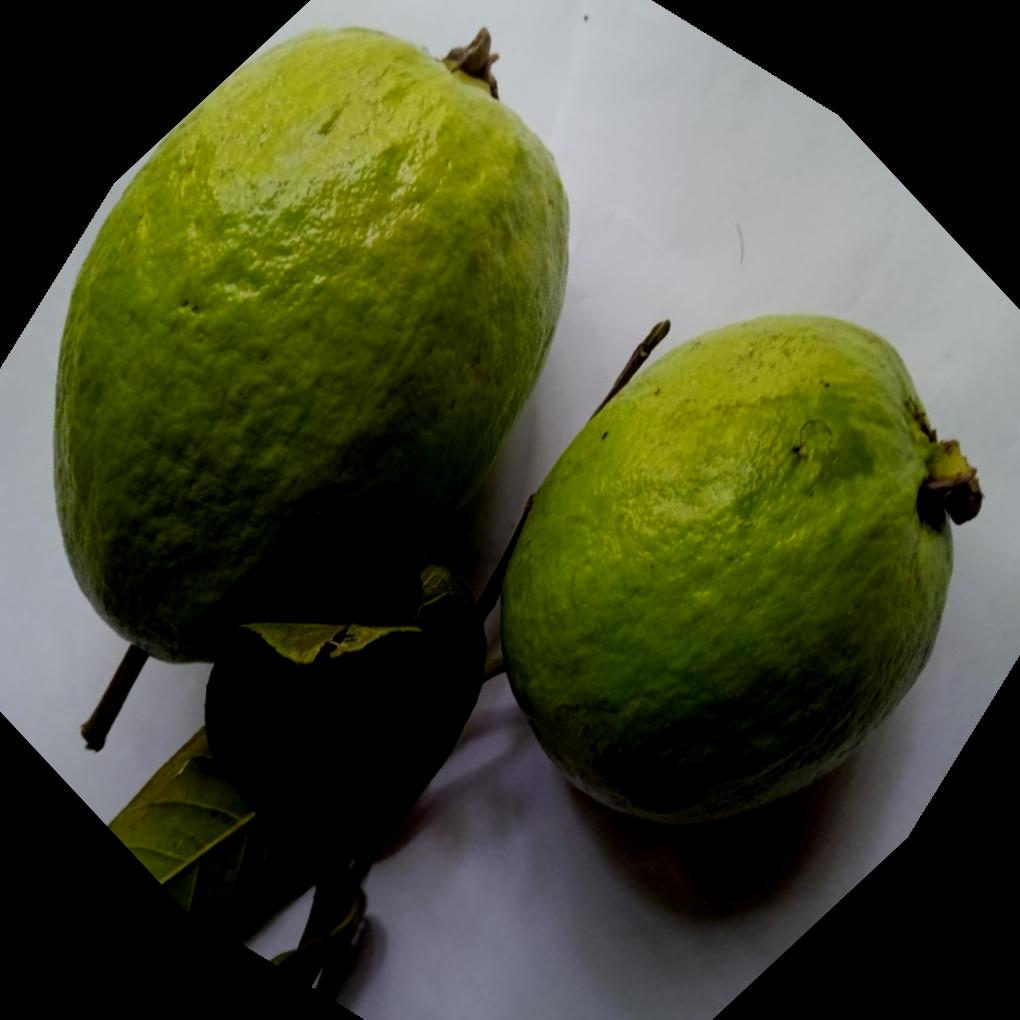FreshGuava: (51, 24, 572, 669), (495, 311, 985, 828)
